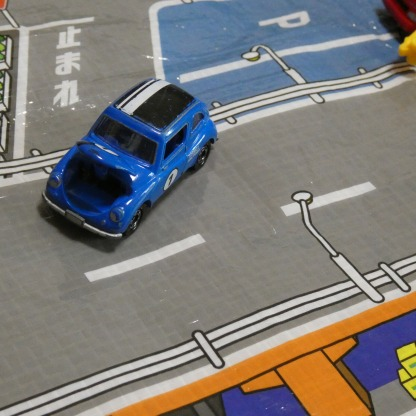car: (47, 82, 220, 238)
